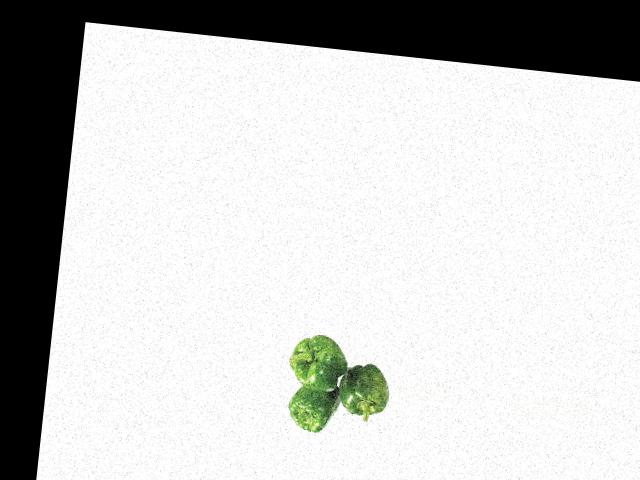bell_pepper: (281, 326, 350, 395)
